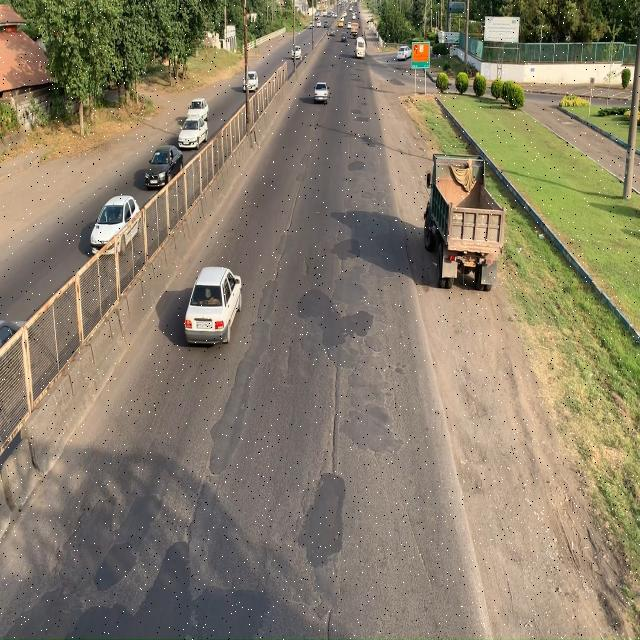Truck: (424, 156, 508, 298)
cars: (183, 266, 242, 345), (89, 192, 143, 258), (144, 145, 180, 193), (178, 112, 211, 154)
